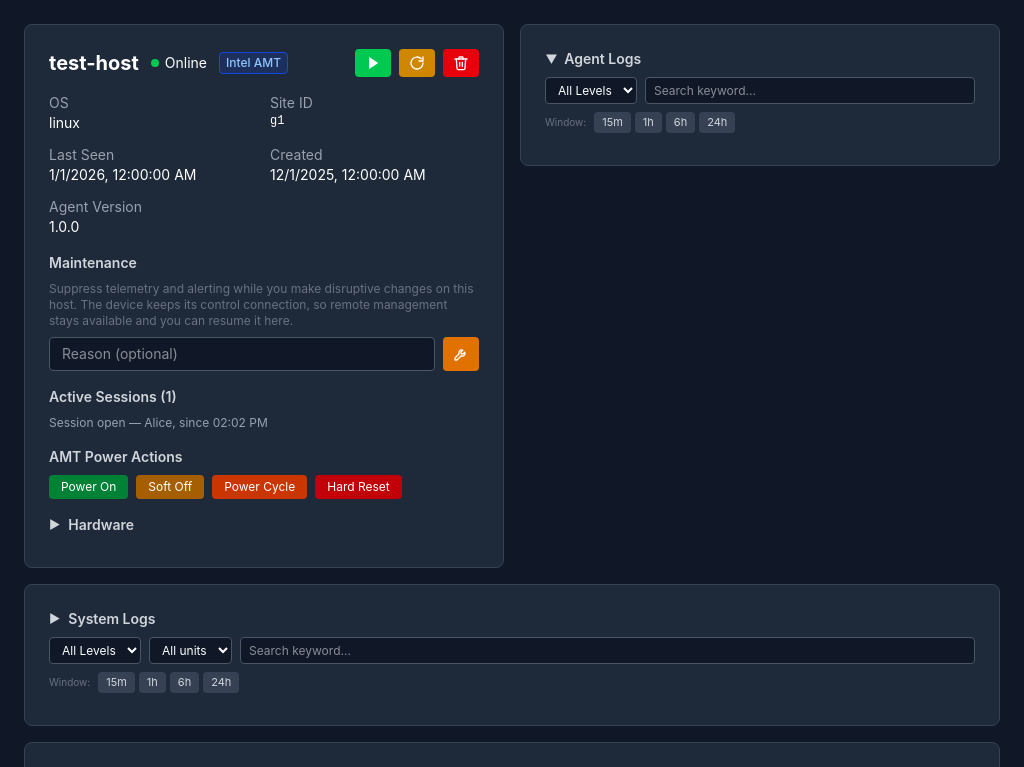
Test: DeviceDetail — power and Intel AMT › Confirm Cycle label switches back to Power Cycle on successful confirm
The width and height of the screenshot is (1024, 767).
Click the button "Power Cycle". click: (260, 487)
box: [212, 475, 307, 499]
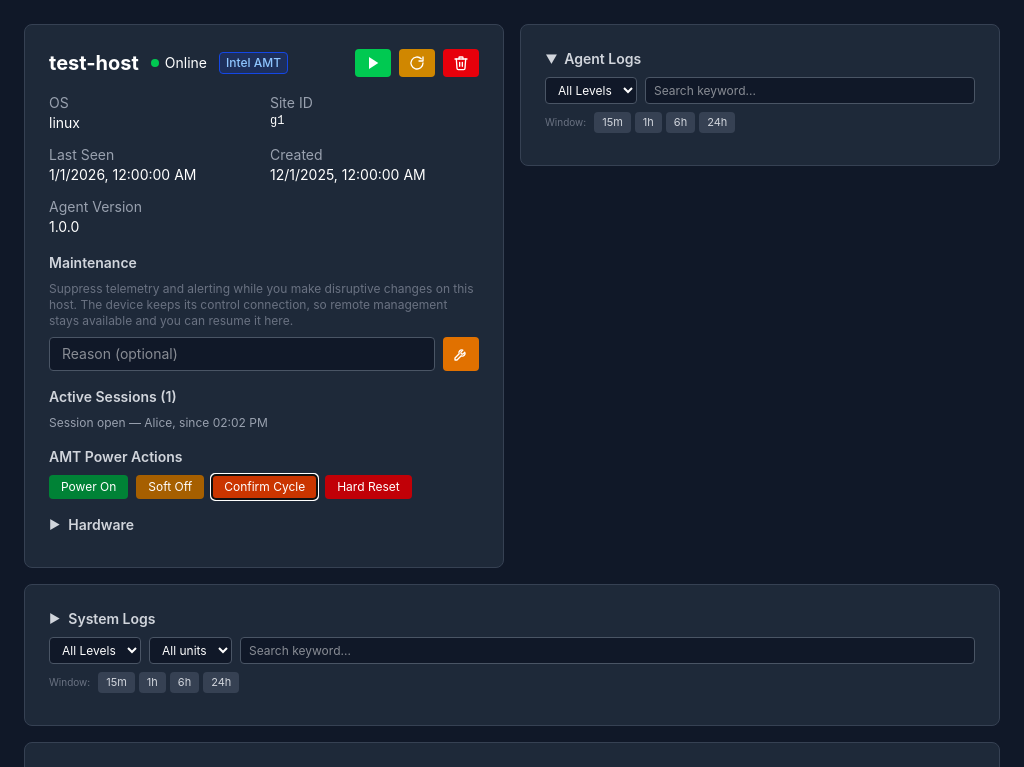
Expected: the button "Confirm Cycle" is shown
Click the button "Confirm Cycle". click: (265, 487)
box: [212, 475, 317, 499]
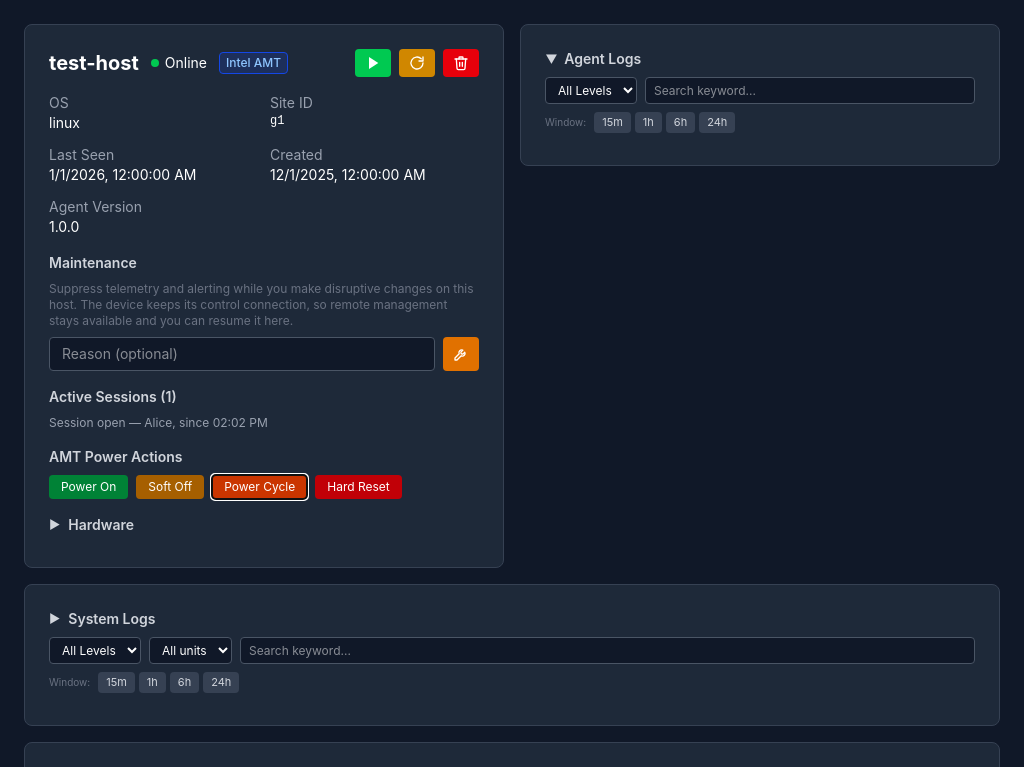
Expected: the button "Power Cycle" is shown, [212, 475, 307, 499]
Expected: the button "Confirm Cycle" is gone
